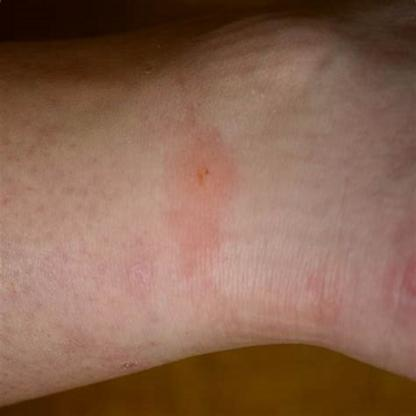Wasp: (162, 124, 244, 228)
